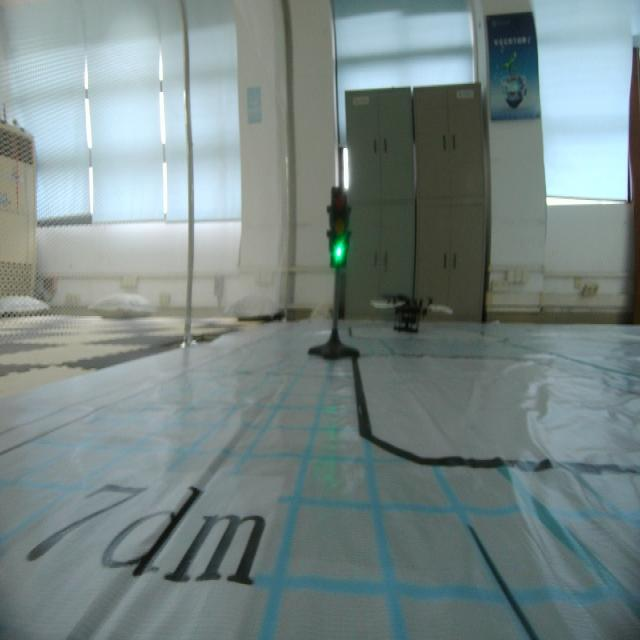green: (323, 183, 353, 273)
